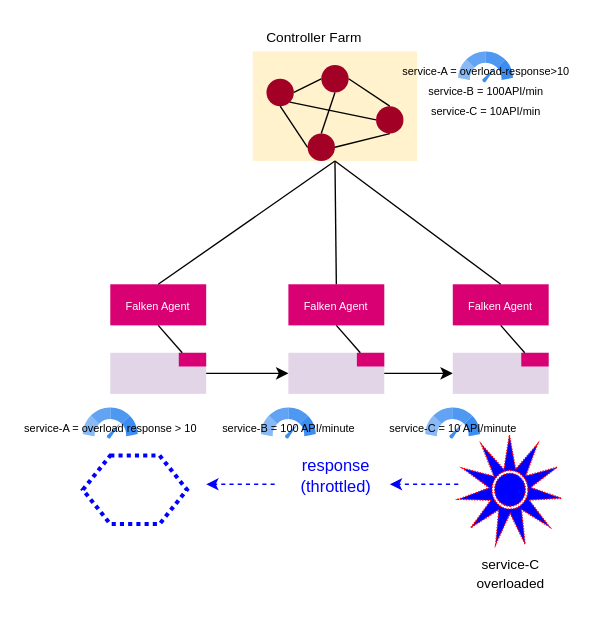
Some shapes in this 592 by 617 pixel diagram are drawn without their labels. Here are the shapes that lost their labels. From the top down, the centre of each, then its label:
the point at 158,372: service-A
the point at 336,372: service-B
the point at 500,372: service-C
the point at 134,489: Apply throttling
